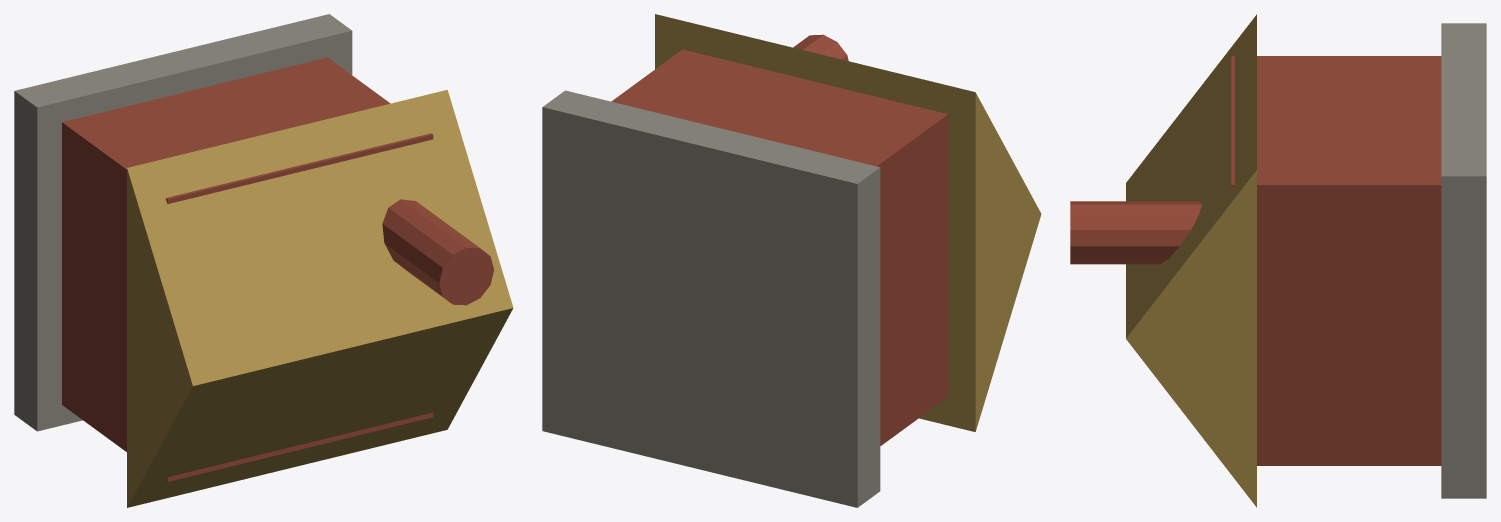
Rendered from pondering-hovel.obj.
3 views of the same model, side by side, from view 1: azimuth 30°, elevation 25°; view 2: azimuth 150°, elevation 25°; view 3: azimuth 270°, elevation 25° (orthographic).
Parts seen in each view (by area): view 1: pondering-hovel_shingle_roof, pondering-hovel_masonry_walls, pondering-hovel_floor, pondering-hovel_chimney; view 2: pondering-hovel_floor, pondering-hovel_masonry_walls, pondering-hovel_shingle_roof, pondering-hovel_chimney; view 3: pondering-hovel_masonry_walls, pondering-hovel_shingle_roof, pondering-hovel_floor, pondering-hovel_chimney.
Part boxes in pixels (box(x1,y1,x2,y2)): pondering-hovel_shingle_roof: box(127, 90, 513, 507); pondering-hovel_masonry_walls: box(62, 57, 433, 481); pondering-hovel_floor: box(14, 14, 352, 431); pondering-hovel_chimney: box(382, 199, 493, 305); pondering-hovel_floor: box(542, 90, 880, 507); pondering-hovel_masonry_walls: box(611, 49, 948, 445); pondering-hovel_shingle_roof: box(655, 14, 1041, 431); pondering-hovel_chimney: box(793, 34, 848, 60); pondering-hovel_masonry_walls: box(1231, 56, 1441, 465); pondering-hovel_shingle_roof: box(1126, 14, 1256, 507); pondering-hovel_floor: box(1441, 23, 1486, 498); pondering-hovel_chimney: box(1070, 201, 1201, 264).
Size of the model in its own units: 2.92 by 2.96 by 3.3.
